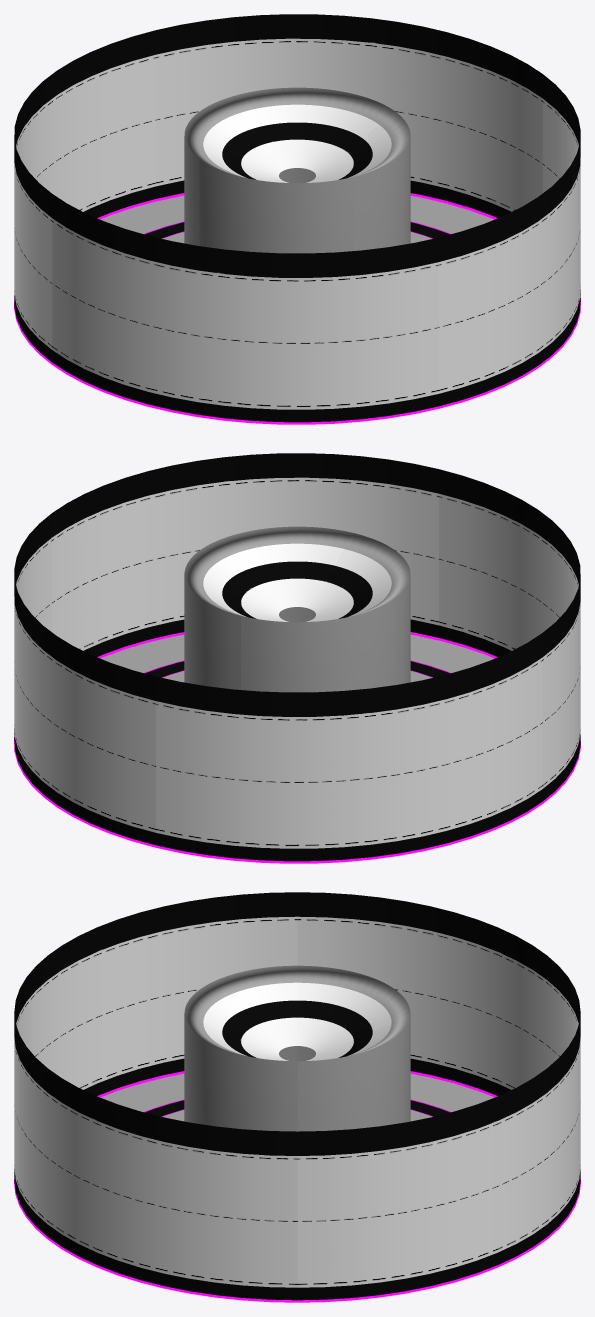
Rendered from JR Kyusyu_StructureBase.fbx.
3 renders of one model, top to bottom at view 1: azimuth 30°, elevation 25°; view 2: azimuth 150°, elevation 25°; view 3: azimuth 270°, elevation 25°, orthographic.
Visible parts, largest first — view 1: JR_Kyusyu_StructureBase; view 2: JR_Kyusyu_StructureBase; view 3: JR_Kyusyu_StructureBase.
Part boxes in pixels (left/top/right/bottom): JR_Kyusyu_StructureBase: left=14, top=14, right=580, bottom=424; JR_Kyusyu_StructureBase: left=14, top=453, right=580, bottom=863; JR_Kyusyu_StructureBase: left=14, top=892, right=580, bottom=1302.
Bounding box in the file's own units: 2646 × 881 × 2646.
